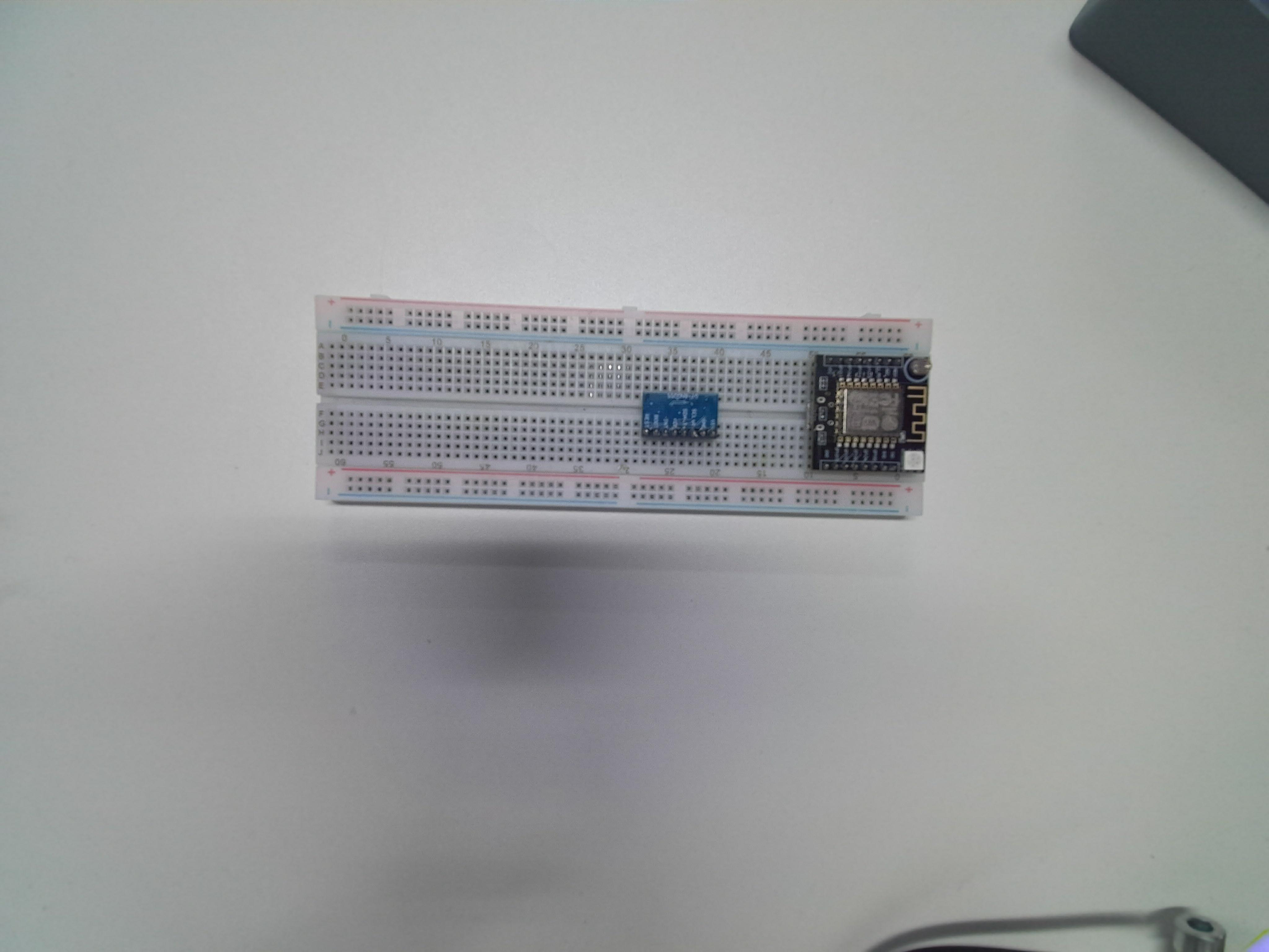base: (311, 295, 935, 523)
blue-board: (641, 389, 720, 439)
esp: (806, 350, 931, 477)
